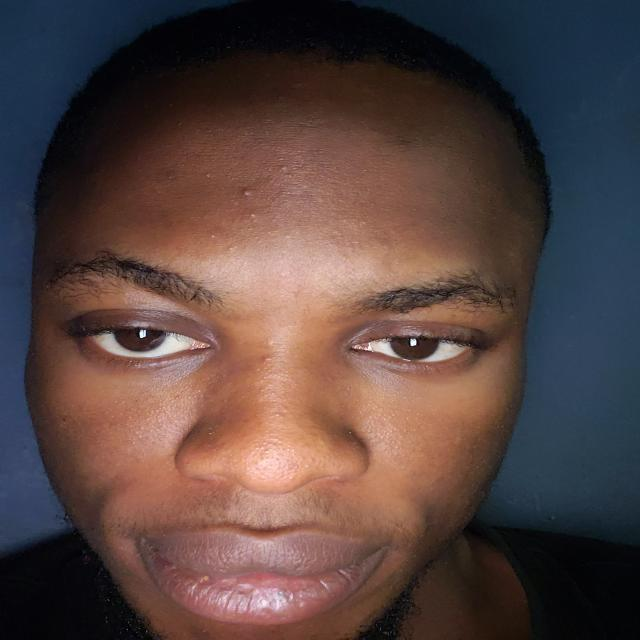acne: (370, 408, 422, 462), (327, 225, 362, 257), (244, 207, 262, 223), (274, 160, 293, 175), (161, 171, 182, 183), (258, 352, 274, 367), (224, 242, 246, 252), (238, 186, 254, 198), (202, 170, 218, 182), (277, 269, 293, 281), (202, 232, 220, 241), (281, 231, 295, 240)
pores: (116, 392, 186, 446), (244, 432, 300, 483), (194, 624, 218, 638)
wrinkle: (250, 190, 322, 200), (239, 134, 322, 142), (274, 118, 320, 130)
